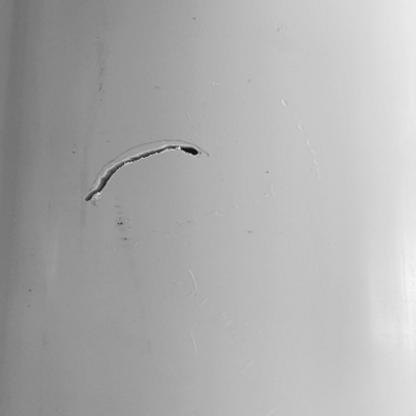fengxi: (83, 143, 201, 201)
